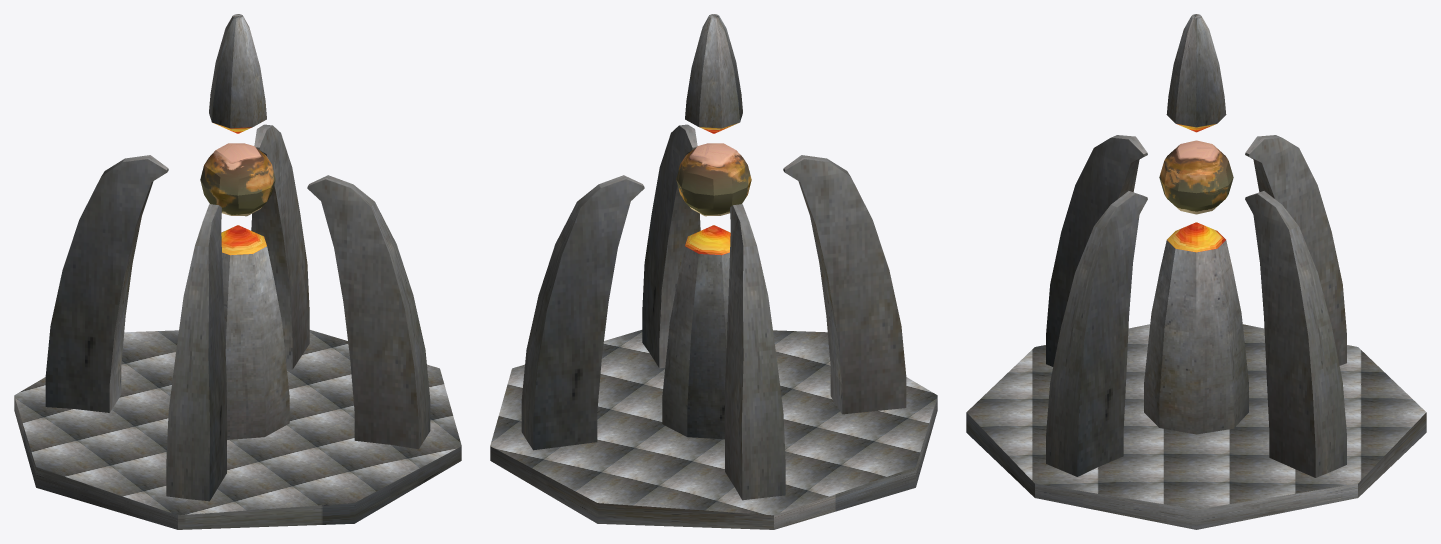
The model's file is MachineDirty.fbx.
3 views of the same model, side by side, from view 1: azimuth 30°, elevation 25°; view 2: azimuth 150°, elevation 25°; view 3: azimuth 270°, elevation 25° (orthographic).
Visible parts, largest first — view 1: Base, ArmFrontRight, ArmBackLeft, ArmFrontLeft, BodyLower, ArmBackRight, BodyUpper, Globe; view 2: Base, ArmBackRight, ArmFrontLeft, ArmBackLeft, BodyLower, ArmFrontRight, BodyUpper, Globe; view 3: Base, BodyLower, ArmBackRight, ArmFrontRight, ArmFrontLeft, ArmBackLeft, BodyUpper, Globe.
Part boxes in pixels (x1,y1,x2,y2): Base: (14,330,461,529); ArmFrontRight: (307,175,430,449); ArmBackLeft: (45,155,168,412); ArmFrontLeft: (166,204,226,501); BodyLower: (221,225,289,439); ArmBackRight: (251,124,309,369); BodyUpper: (209,14,266,133); Globe: (200,143,275,216); Base: (490,330,937,529); ArmBackRight: (521,175,644,450); ArmFrontLeft: (783,155,906,414); ArmBackLeft: (725,204,785,500); BodyLower: (662,225,730,439); ArmFrontRight: (642,124,700,368); BodyUpper: (685,14,742,133); Globe: (676,143,751,216); Base: (966,324,1426,529); BodyLower: (1144,222,1248,434); ArmBackRight: (1245,191,1346,477); ArmFrontRight: (1046,191,1147,476); ArmFrontLeft: (1046,135,1147,366); ArmBackLeft: (1245,135,1346,365); BodyUpper: (1166,14,1226,132); Globe: (1159,140,1233,214).
Bounding box in the file's own units: 6.18 × 6.18 × 6.18.
3 materials, 3 textured.
